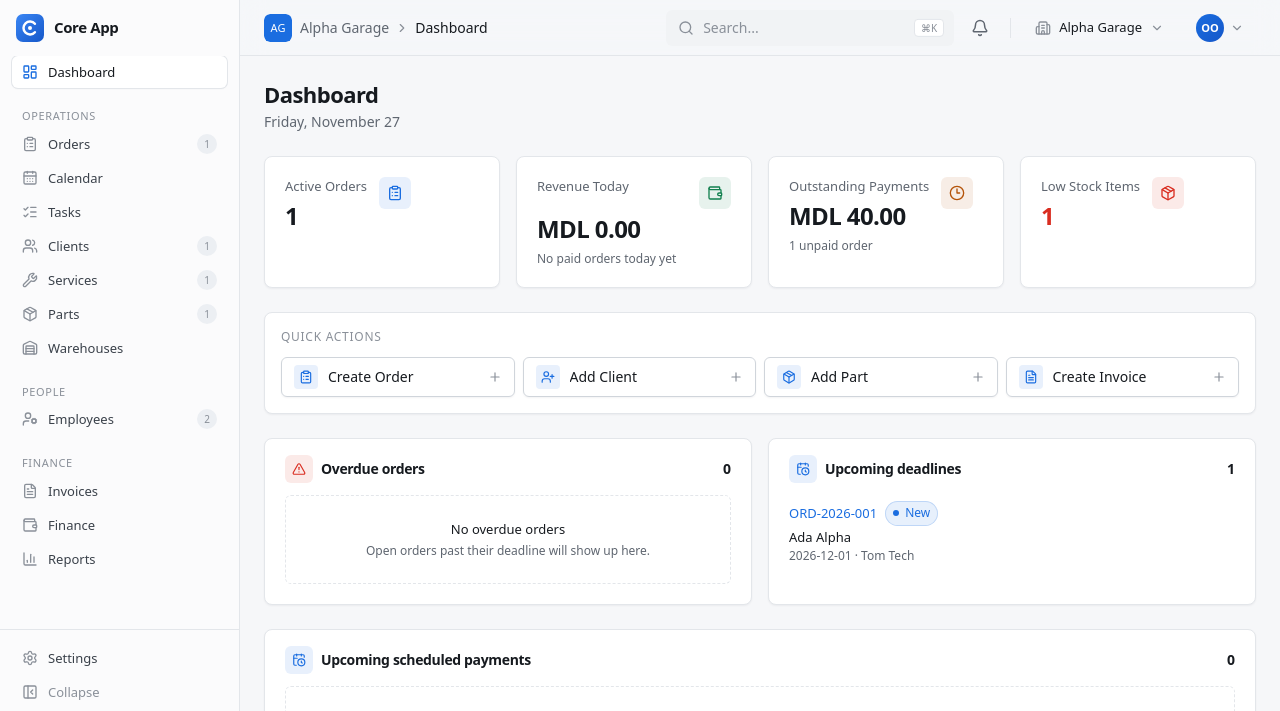
Test: dashboard quick actions › Create Order opens its create form in a dialog over the dashboard
expect the heading "Quick Actions" is shown: met, box left=281, top=328, right=382, bottom=345
expect the button "Add Part" is shown: met, box left=764, top=357, right=998, bottom=397
Click the button "Create Order".
click(398, 377)  # box left=281, top=357, right=514, bottom=397
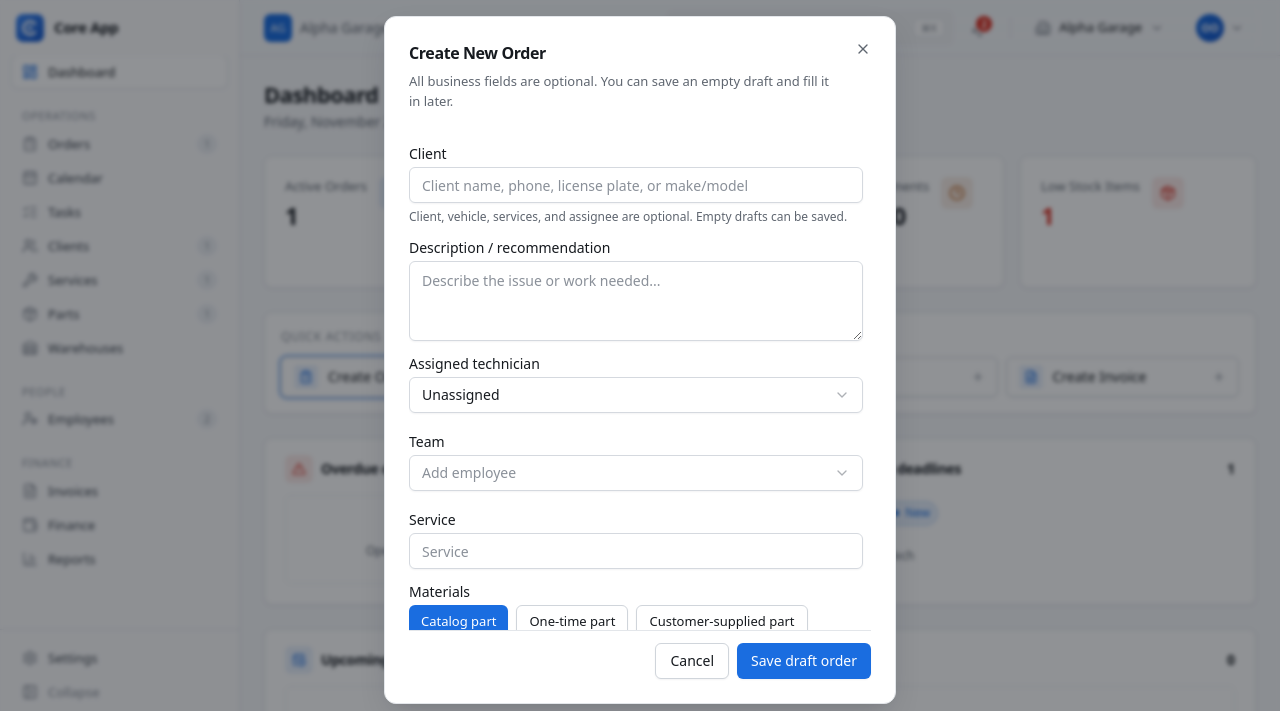
Press Escape
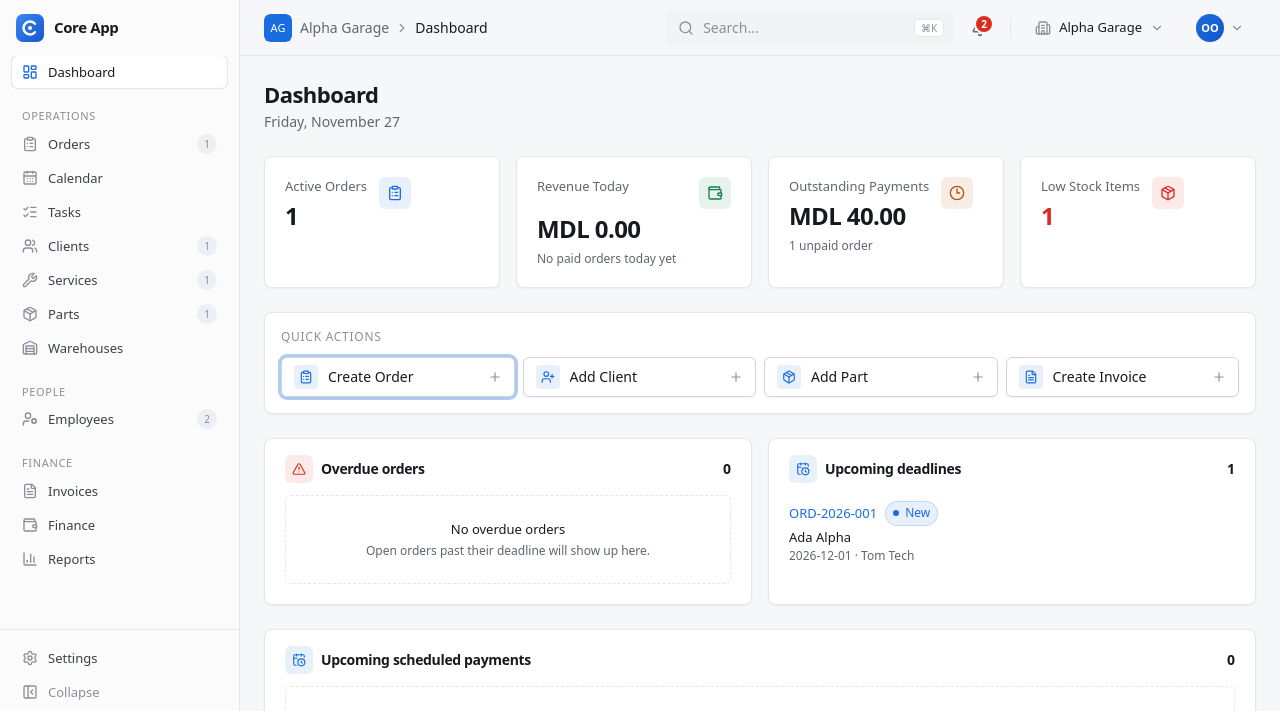
expect the heading "Quick Actions" is shown: met, box left=281, top=328, right=382, bottom=345
expect the dialog is gone: met
